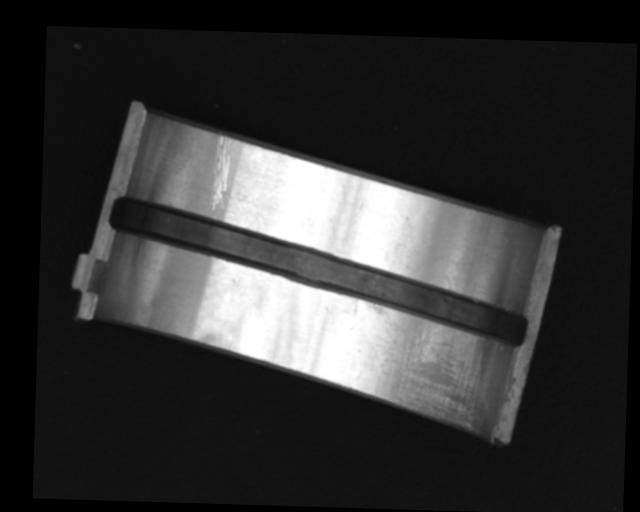gap: (105, 195, 529, 346)
nick: (209, 131, 233, 211)
scratch: (364, 302, 491, 433)
